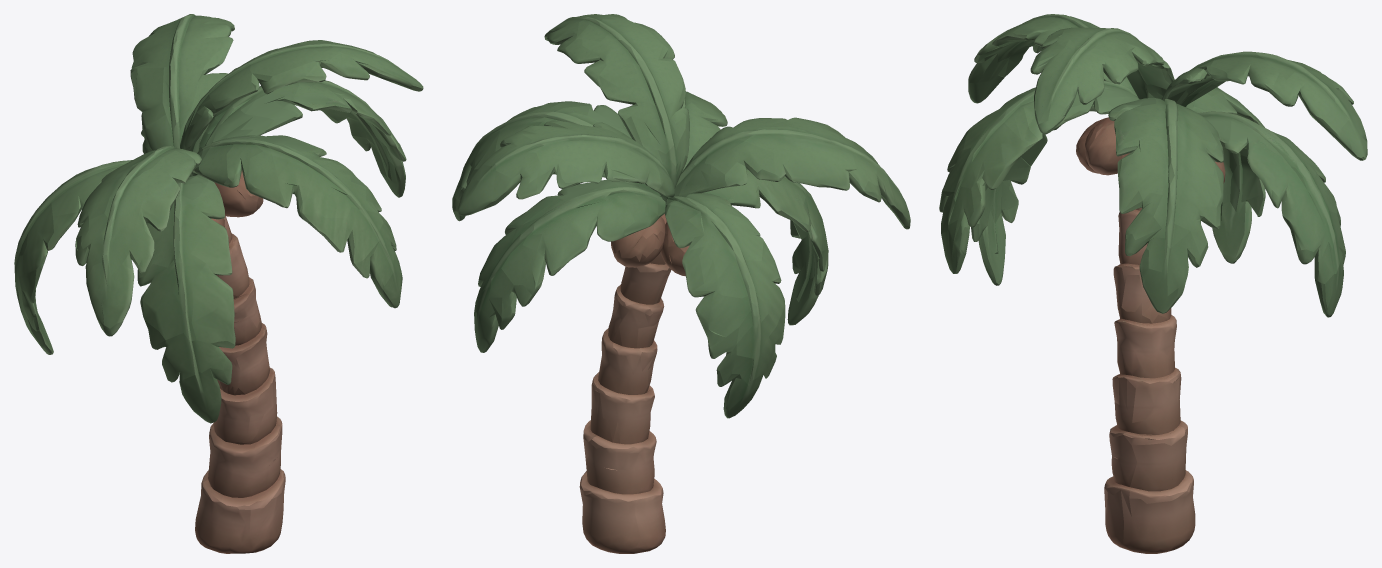
Rendered from coqueiro.glb.
3 views of the same model, side by side, from view 1: azimuth 30°, elevation 25°; view 2: azimuth 150°, elevation 25°; view 3: azimuth 270°, elevation 25° (orthographic). The views are drawn at different scales.
Size of the model in its own units: 1.52 by 1.9 by 1.4.
Materials: 1 (1 with a texture image).
